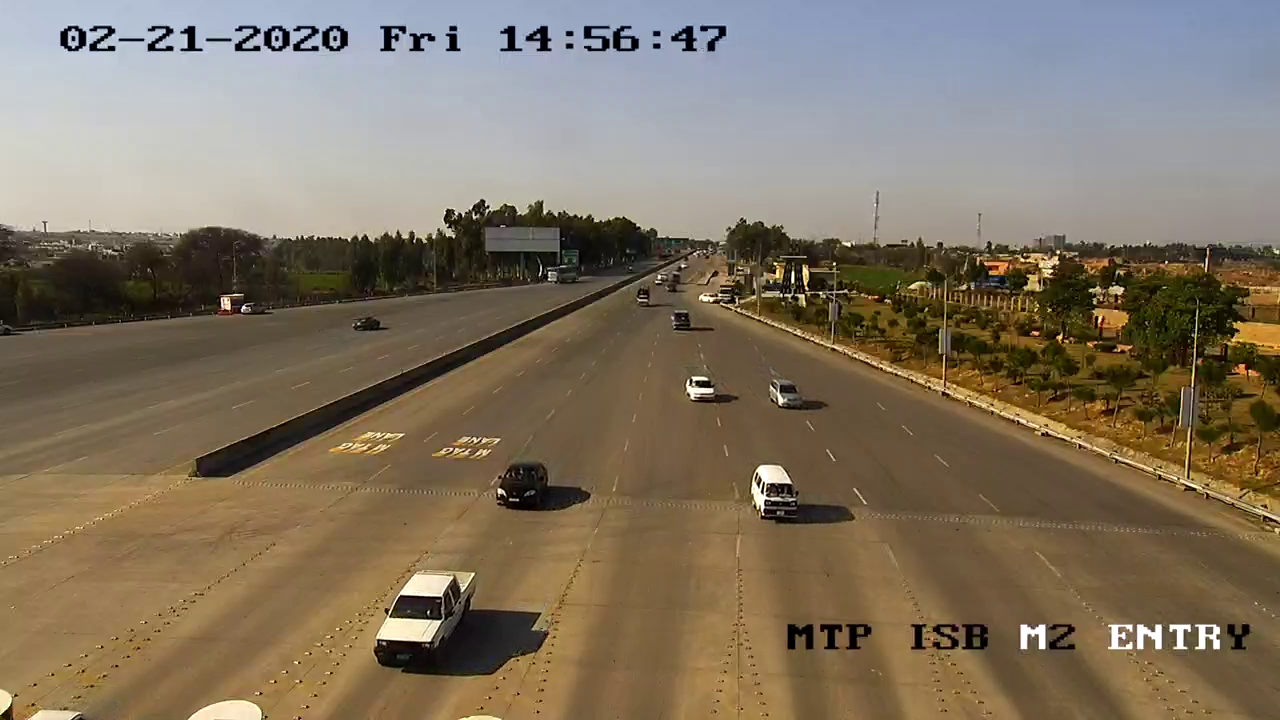f1: (355, 557, 486, 680), (485, 448, 560, 520), (749, 458, 812, 523)
